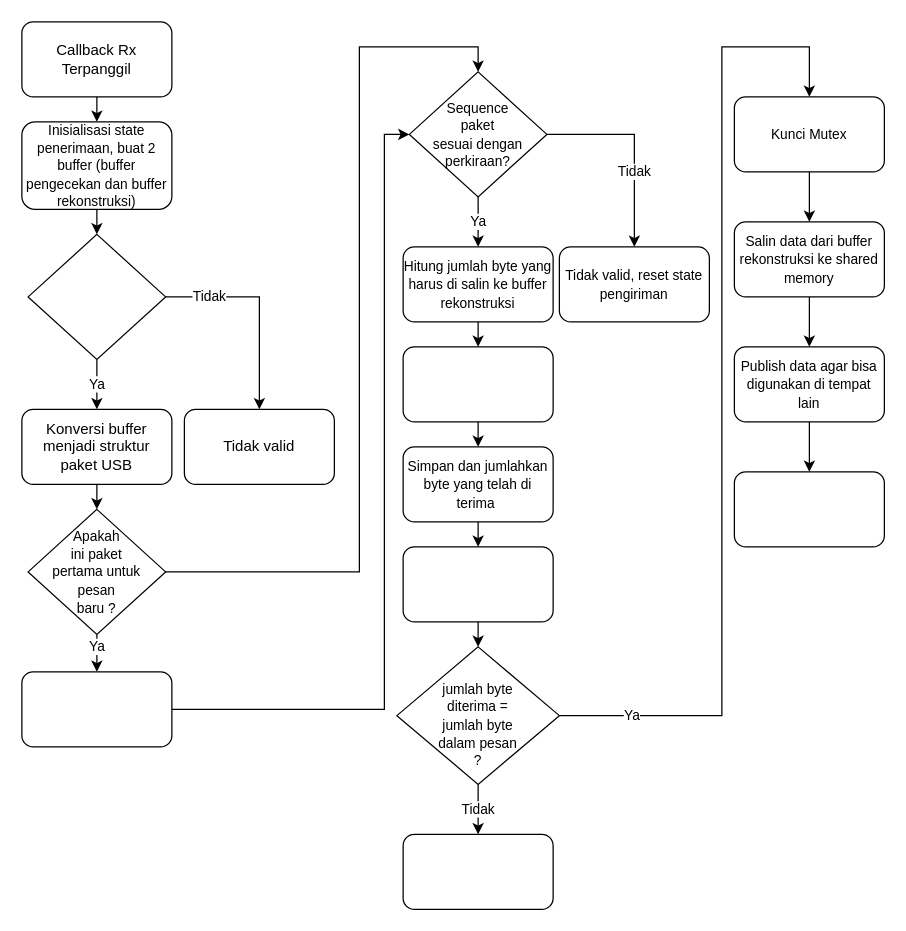
This 906x931 diagram has some shape labels left out. Here are the shapes that lost their labels. From the top down, the centre of each, then its label:
At pixel 96 296: "Jumlah byte = ukuran paket ?".
At pixel 477 384: "Salin data ke buffer rekonstruksi sesuai dengan offset nya".
At pixel 808 509: "Callback selesai".
At pixel 477 584: "Nilai sequence + 1".
At pixel 96 709: "Atur panjang pesan yang diterima = jumlah panjang pesan yang dikirimkan STM32".
At pixel 477 871: "Tidak valid, Reset semua state pengiriman".
